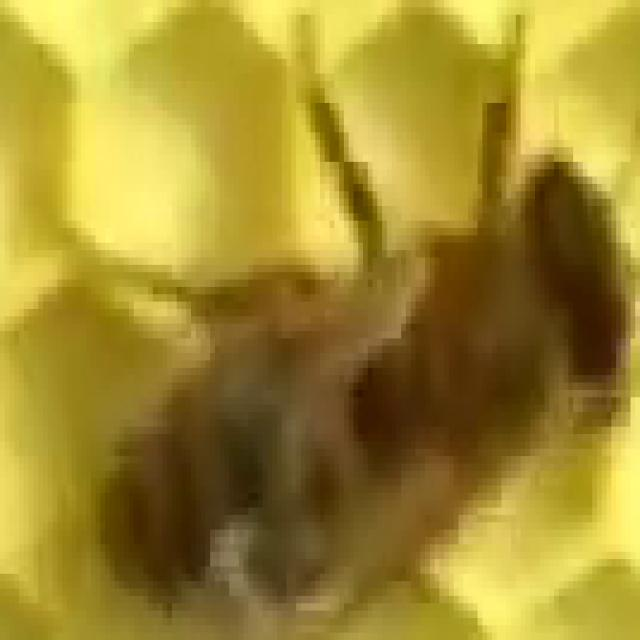honeybee: (81, 147, 640, 618)
